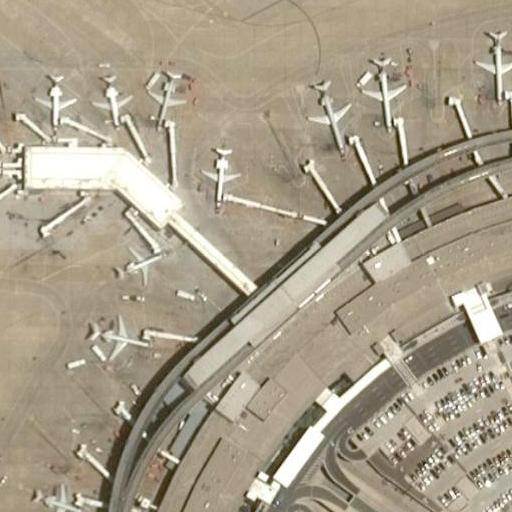Aircraft: (297, 68, 356, 152), (357, 49, 413, 129), (468, 22, 512, 110), (139, 63, 189, 133), (87, 66, 134, 134), (191, 138, 239, 204), (27, 68, 77, 130), (87, 313, 150, 362), (109, 238, 163, 285), (28, 480, 83, 512)
